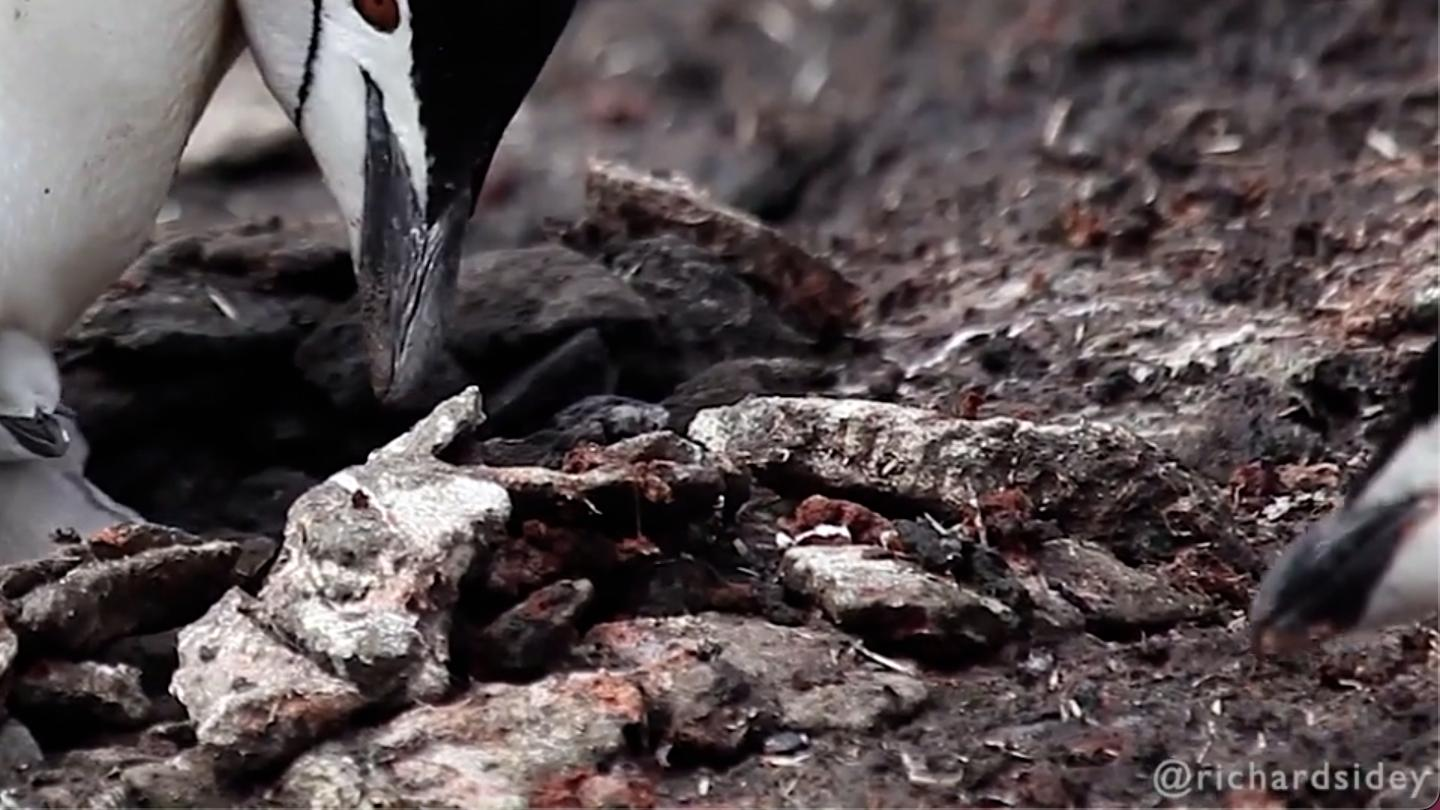Chinstrap Penguin: (0, 0, 686, 573)
